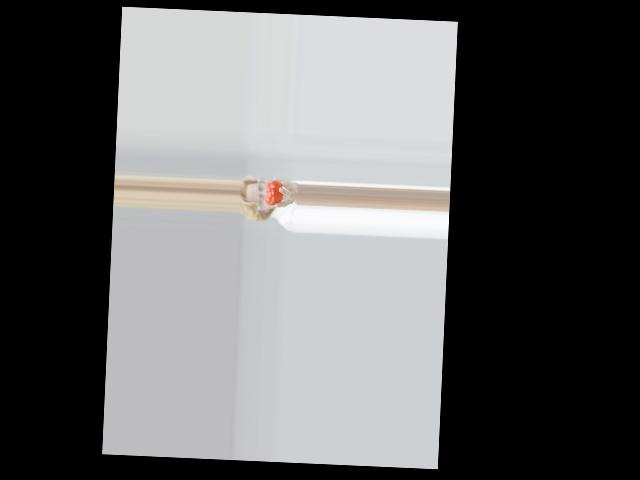tomato: (265, 180, 283, 207)
